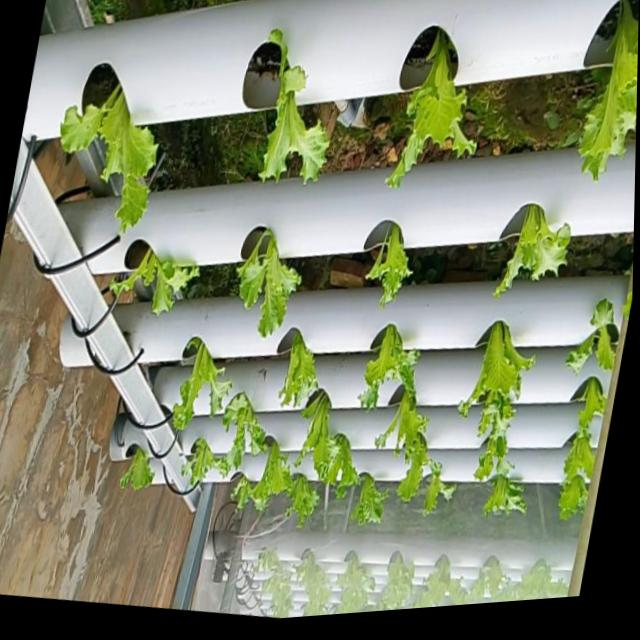Baby: (62, 86, 160, 234), (388, 31, 477, 190), (580, 0, 639, 181), (261, 32, 331, 183), (496, 206, 571, 300), (238, 233, 302, 341), (376, 387, 441, 482), (107, 253, 199, 320), (173, 340, 233, 433), (295, 390, 351, 485), (469, 322, 531, 404), (348, 450, 408, 533), (232, 441, 293, 514), (566, 300, 620, 376), (220, 393, 269, 476), (362, 326, 408, 410), (479, 377, 522, 465), (368, 227, 413, 310), (279, 331, 319, 409), (561, 433, 598, 513), (181, 439, 229, 492), (416, 460, 460, 517), (286, 474, 321, 529), (485, 475, 528, 518), (119, 453, 155, 494)
